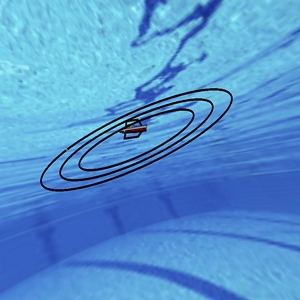circle: (32, 79, 246, 195)
submarine: (117, 114, 150, 146)
